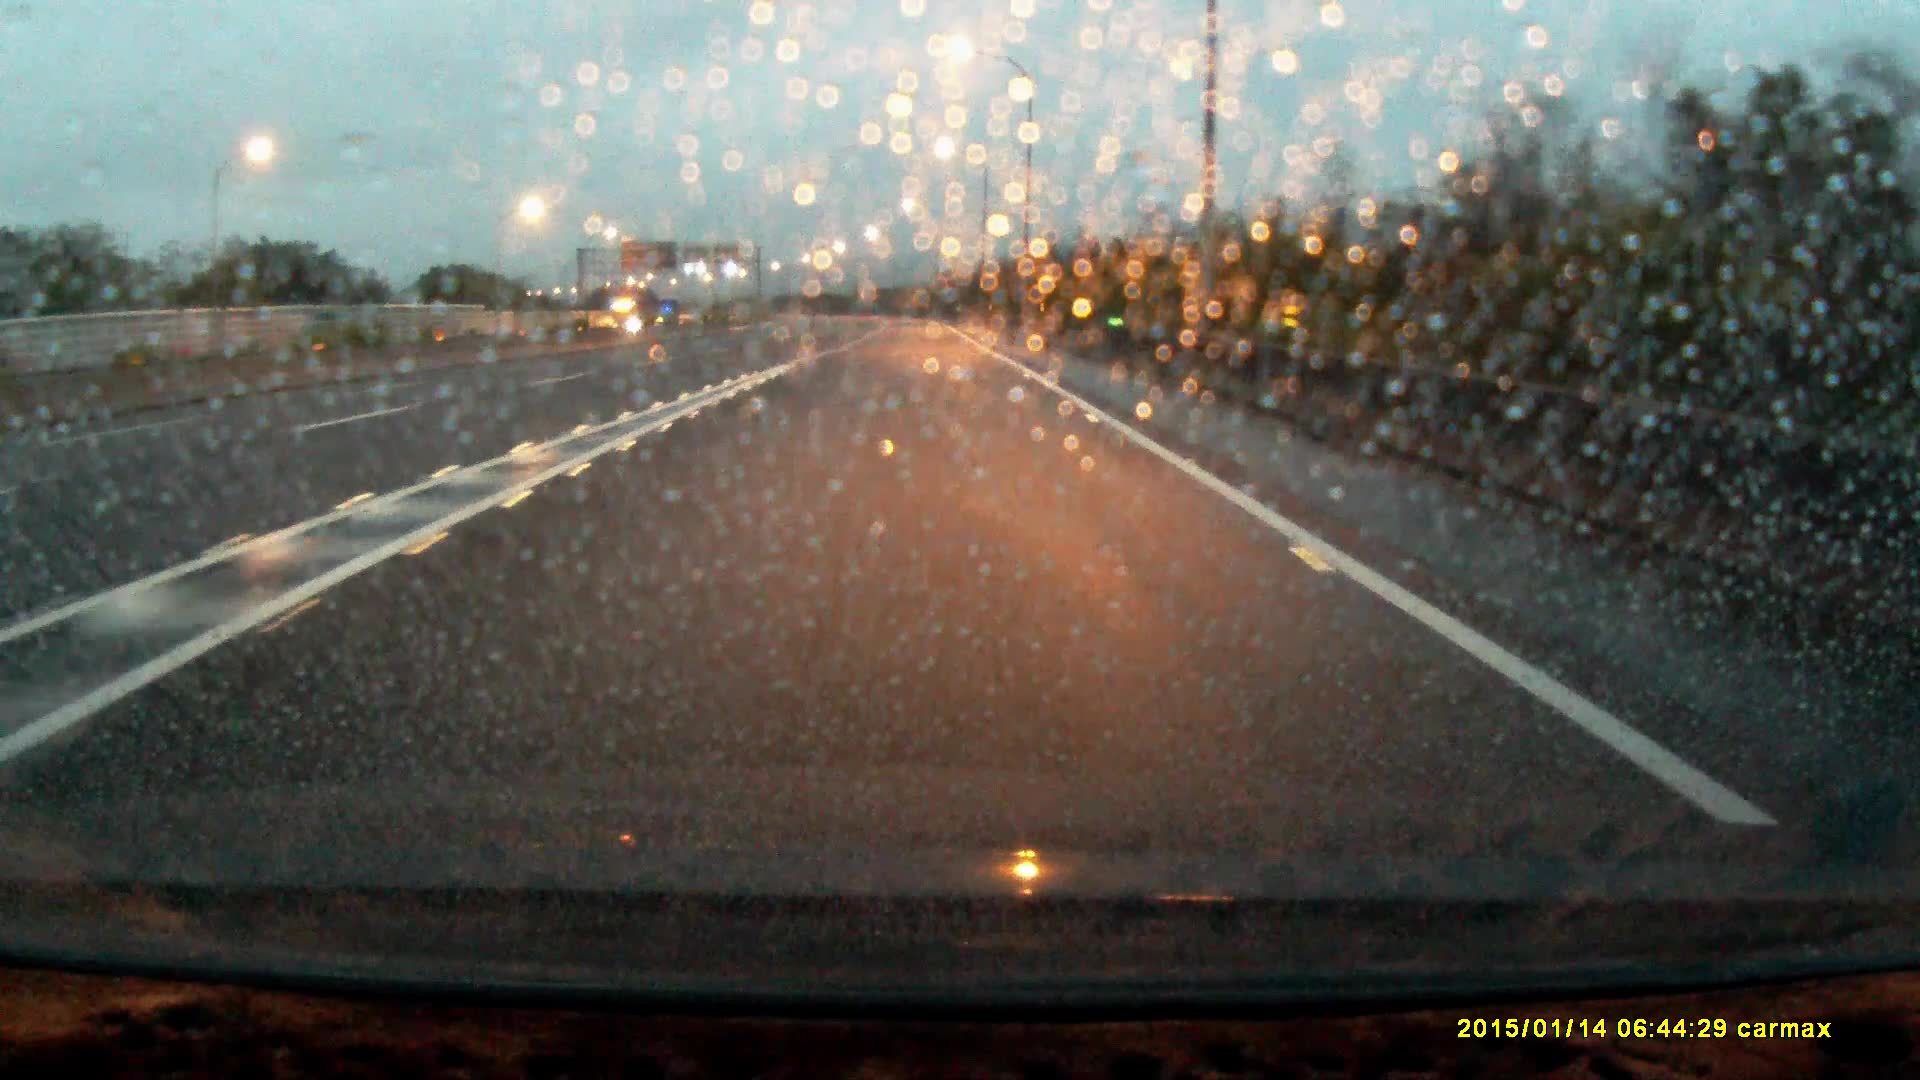vehicle: (608, 295, 645, 334)
